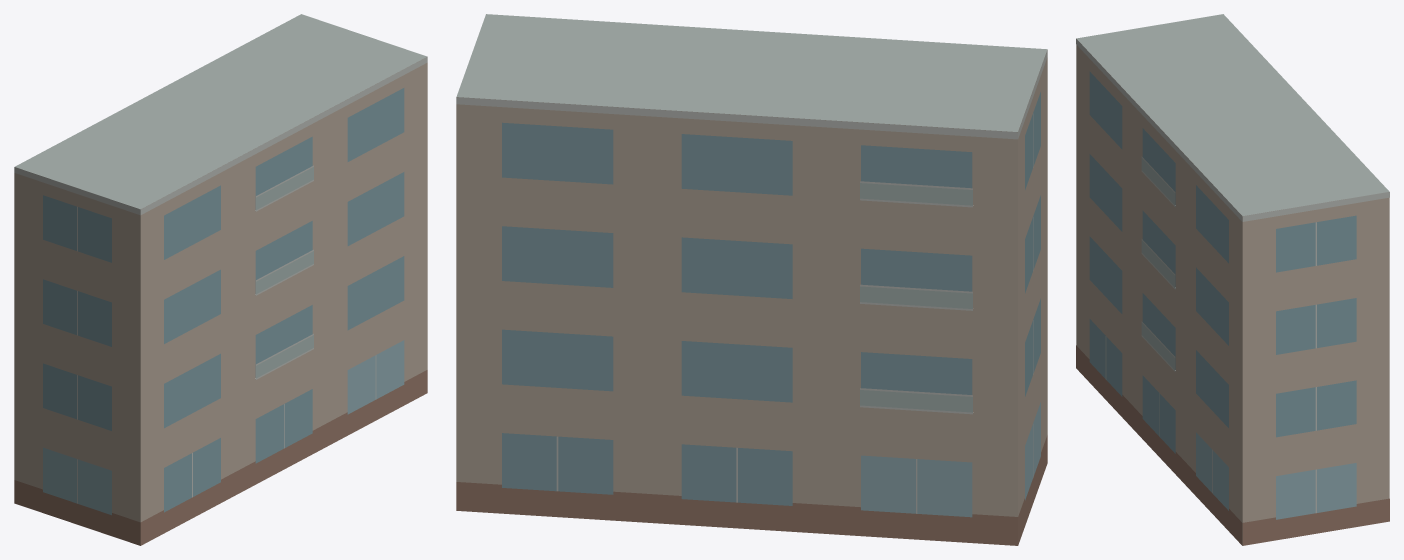
File: survey-upis-32798113.glb
3 renders of one model, left to right at view 1: azimuth 30°, elevation 25°; view 2: azimuth 150°, elevation 25°; view 3: azimuth 270°, elevation 25°, orthographic. The views are drawn at different scales.
Parts seen in each view (by area): view 1: survey-upis-32798113.tmp; view 2: survey-upis-32798113.tmp; view 3: survey-upis-32798113.tmp.
Boxes of the visible parts, x1,y1,x2,y2 form: survey-upis-32798113.tmp: (14,14,427,545); survey-upis-32798113.tmp: (456,14,1047,545); survey-upis-32798113.tmp: (1076,14,1389,545).
Size of the model in its own units: 18.16 by 13.8 by 11.91.
